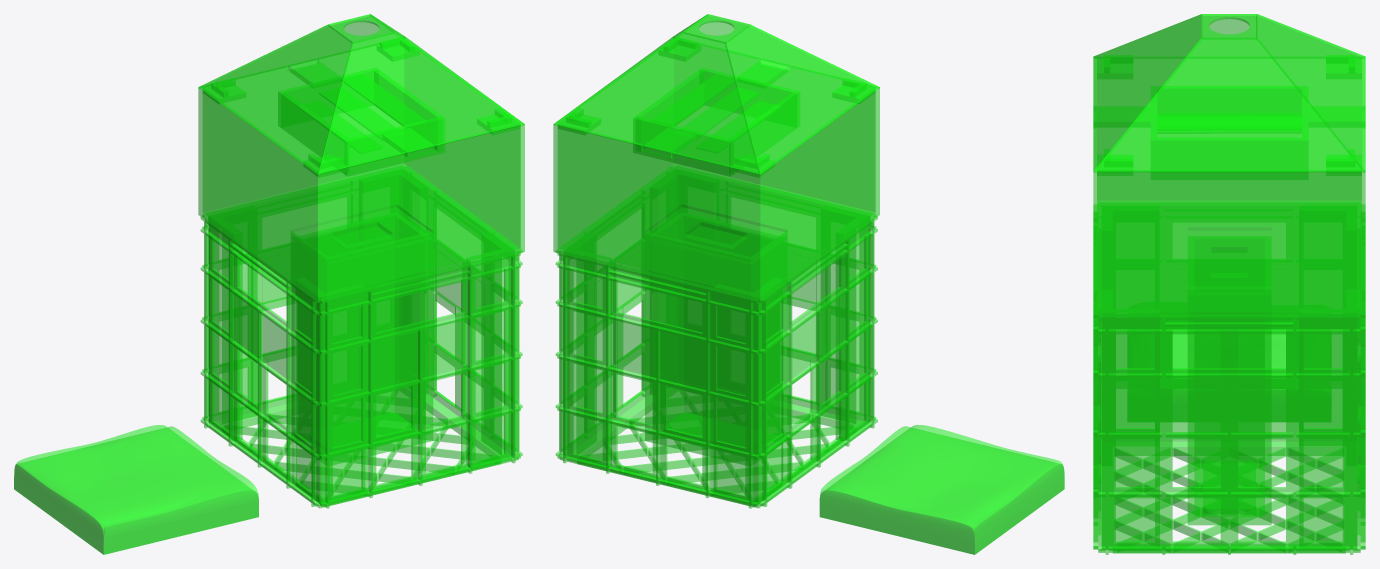
Rendered from lachlan.glb.
3 renders of one model, left to right at view 1: azimuth 30°, elevation 25°; view 2: azimuth 150°, elevation 25°; view 3: azimuth 270°, elevation 25°, orthographic. The views are drawn at different scales.
Parts seen in each view (by area): view 1: Layer_01; view 2: Layer_01; view 3: Layer_01.
Boxes of the visible parts, x1=… form: Layer_01: x1=14, y1=14, x2=524, y2=554; Layer_01: x1=553, y1=14, x2=1064, y2=554; Layer_01: x1=1093, y1=14, x2=1365, y2=554.
Size of the model in its own units: 738 by 729 by 376.
